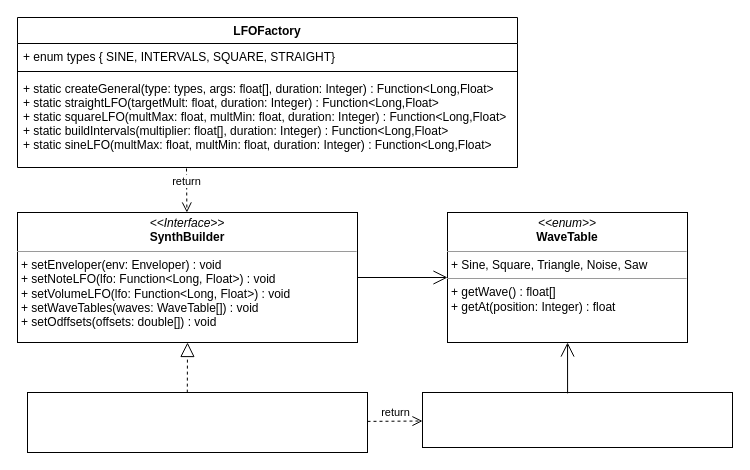
Image size: 750x470. Some labels were removed from this diagram. The centre of each missing label's shape, as x and y in pixels:
KeyboardSynth + playTimedNote(identifier: Integer, micros: Long) : void: pixel 577 420
SynthBuilderImpl + build(freqs: List<Pair<Integer, Long>>) : KeyboardSynth: pixel 197 422
